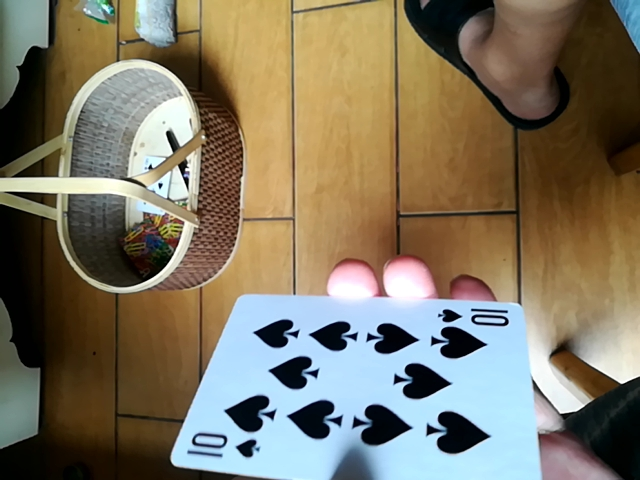ht 10: (175, 296, 543, 478)
